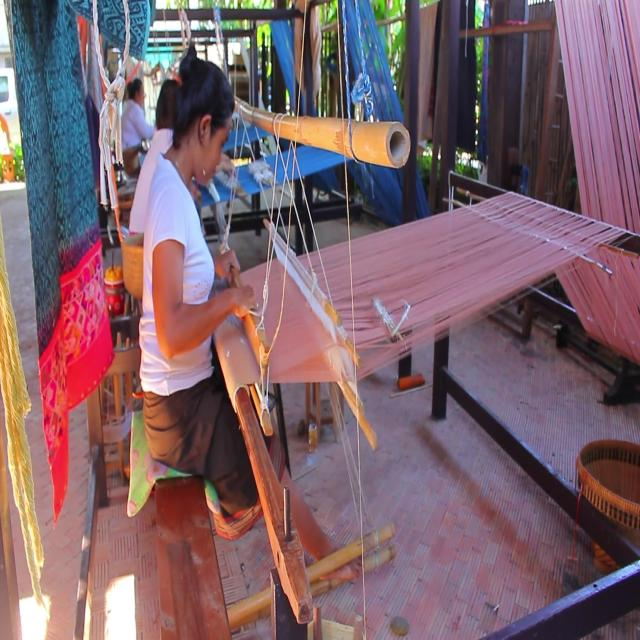not-gloved: (227, 282, 256, 319), (214, 247, 240, 281)
